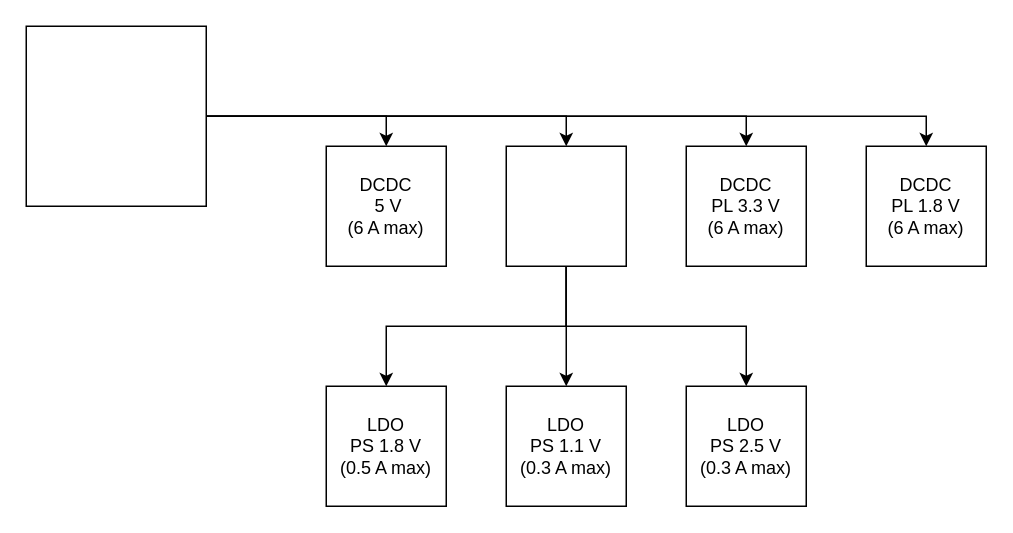
This 1013x533 diagram has some shape labels left out. The shapes that lost their labels are listed below. From the top down, each one's box as (x1, y1, x2, y2) in pixels, then its label:
(25, 25, 206, 206): DC Power Source (MPOD)
(505, 145, 626, 266): DCDC PS 3.3 V (6 A max)
